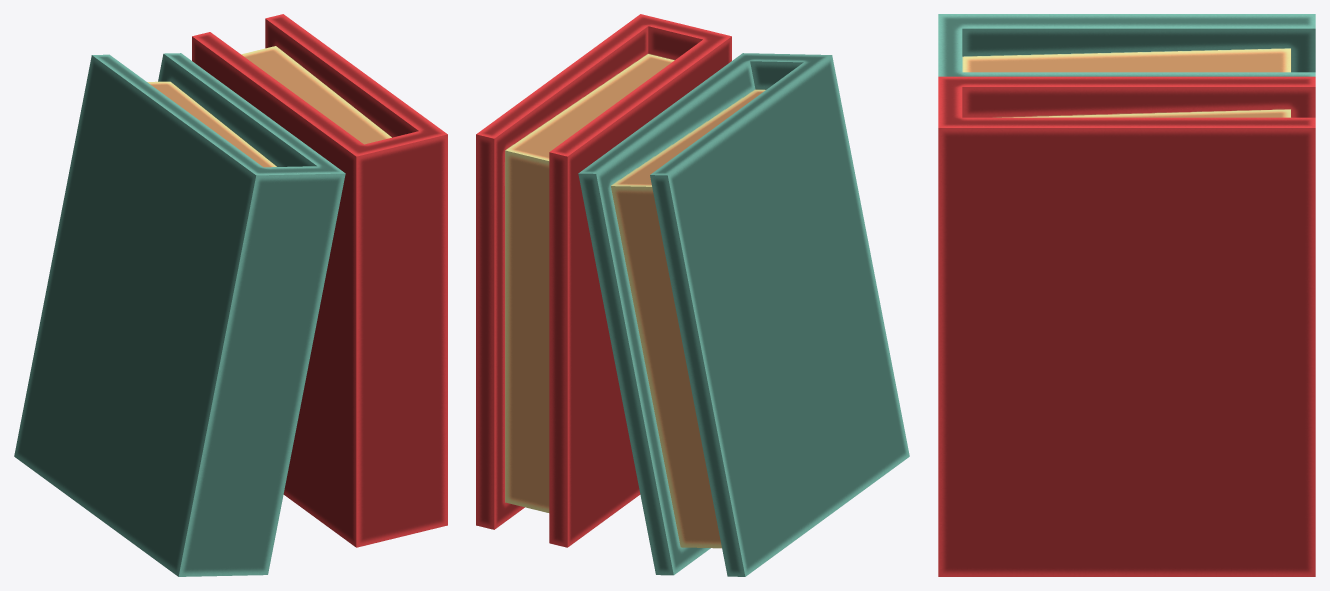
File: books.glb
3 renders of one model, left to right at view 1: azimuth 30°, elevation 25°; view 2: azimuth 150°, elevation 25°; view 3: azimuth 270°, elevation 25°, orthographic. The views are drawn at different scales.
Visible parts, largest first — view 1: Book 1; view 2: Book 1; view 3: Book 1.
Boxes of the visible parts, box(x1,y1,x2,y2) form: Book 1: box(14, 14, 447, 576); Book 1: box(476, 14, 909, 576); Book 1: box(938, 14, 1315, 576).
Size of the model in its own units: 0.1269 by 0.1812 by 0.1342.
Materials: 1 (1 with a texture image).
